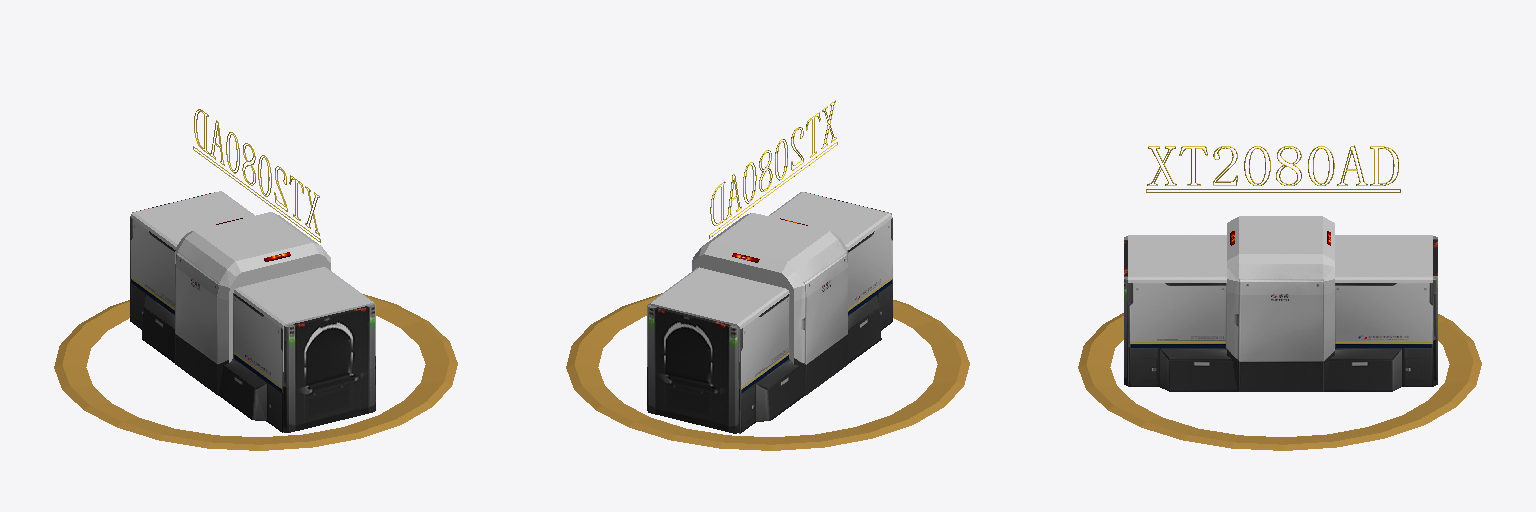
The picture shows the model from 3 angles: view 1: azimuth 30°, elevation 25°; view 2: azimuth 150°, elevation 25°; view 3: azimuth 270°, elevation 25°; orthographic projection.
Parts seen in each view (by area): view 1: shell, statusLamp, name; view 2: shell, statusLamp, name; view 3: shell, statusLamp, name.
Part boxes in pixels (x1,y1,x2,y2): shell: (130, 191, 375, 432); statusLamp: (54, 294, 457, 450); name: (193, 109, 320, 242); shell: (647, 192, 892, 433); statusLamp: (566, 293, 969, 450); name: (709, 100, 837, 238); shell: (1124, 216, 1437, 391); statusLamp: (1078, 313, 1481, 450); name: (1146, 145, 1400, 192).
Bounding box in the file's own units: 635 × 380 × 635.
5 materials, 2 textured.